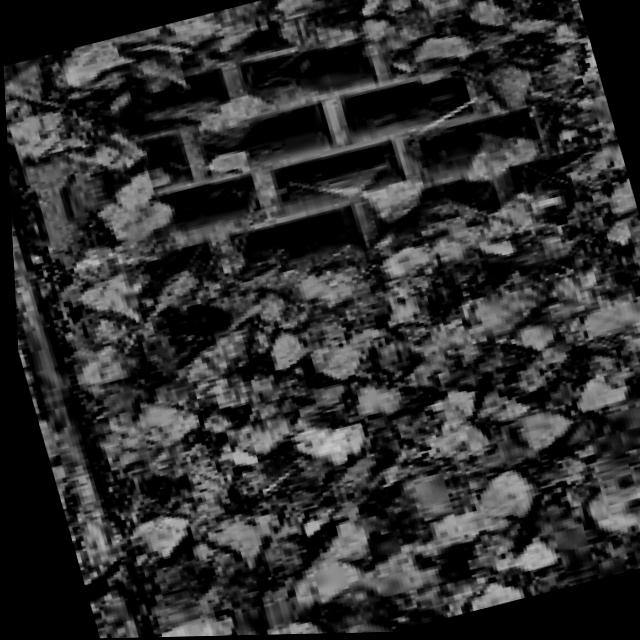clogged_drains: (103, 0, 640, 614), (234, 79, 462, 155)
